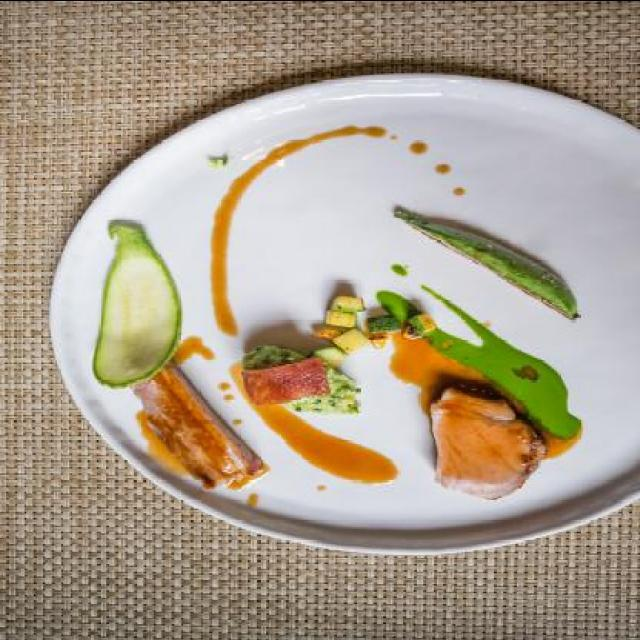Zucchini: (82, 219, 186, 390)
